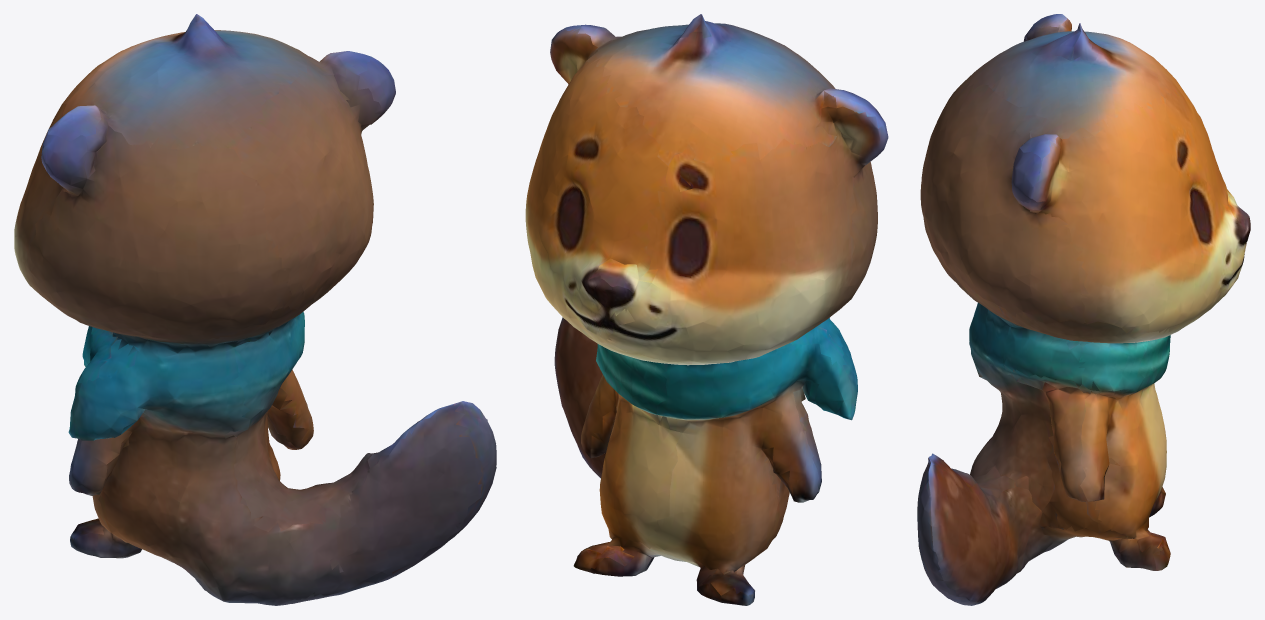
Rendered from tmp7_eueq1k.glb.
The picture shows the model from 3 angles, left to right: view 1: azimuth 30°, elevation 25°; view 2: azimuth 150°, elevation 25°; view 3: azimuth 270°, elevation 25°; orthographic projection. The views are drawn at different scales.
Parts seen in each view (by area): view 1: world; view 2: world; view 3: world.
Part boxes in pixels (x1,y1,x2,y2): world: (14,14,496,605); world: (525,14,888,605); world: (917,14,1250,605).
Bounding box in the file's own units: 0.6759 × 0.9266 × 0.5289.
1 material, 1 textured.
